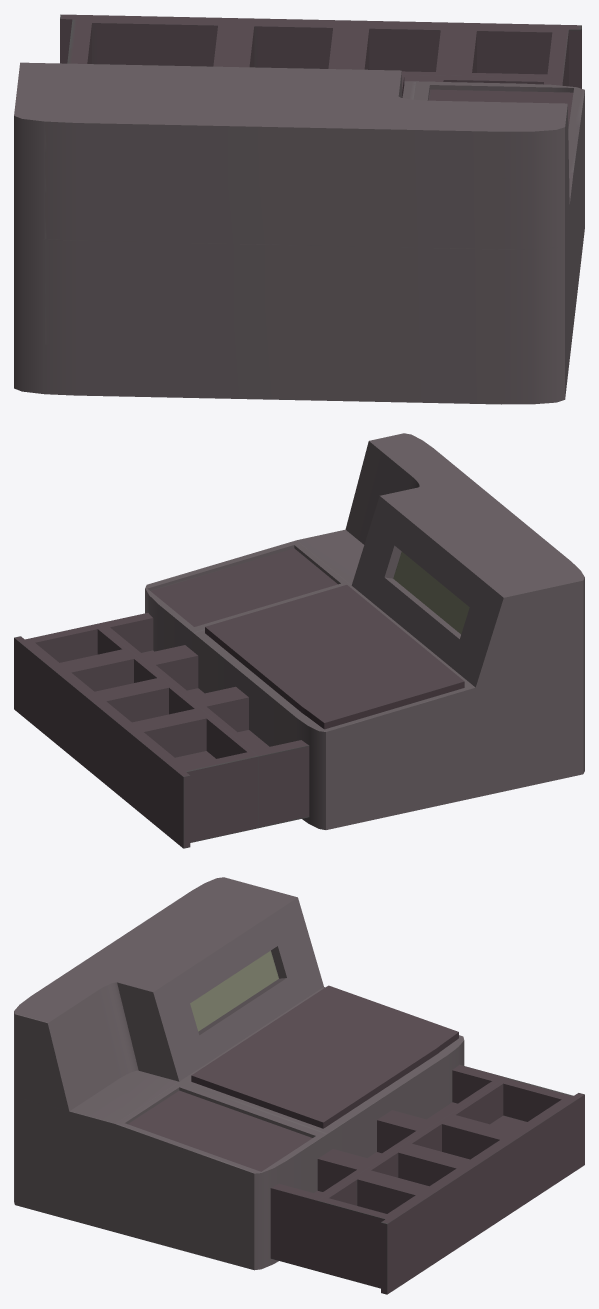
Rendered from Cash register.fbx.
The picture shows the model from 3 angles, top to bottom: view 1: azimuth 30°, elevation 25°; view 2: azimuth 150°, elevation 25°; view 3: azimuth 270°, elevation 25°; orthographic projection. The views are drawn at different scales.
Parts seen in each view (by area): view 1: Cube.002; view 2: Cube.002; view 3: Cube.002.
Part boxes in pixels (x1=…): Cube.002: x1=14, y1=14, x2=584, y2=404; Cube.002: x1=14, y1=433, x2=584, y2=848; Cube.002: x1=14, y1=877, x2=584, y2=1294.
Bounding box in the file's own units: 115 × 43.97 × 119.
